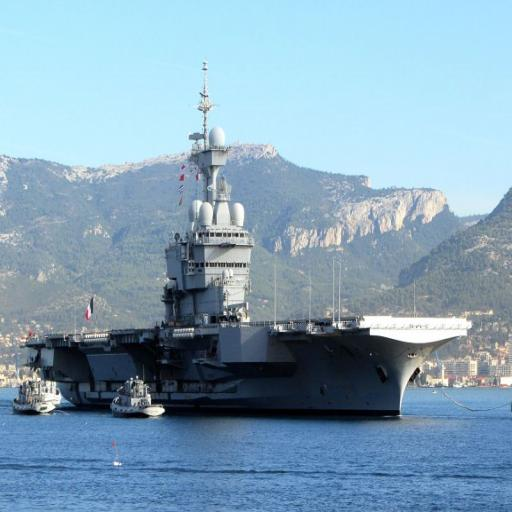Portanaves: (14, 51, 474, 421)
